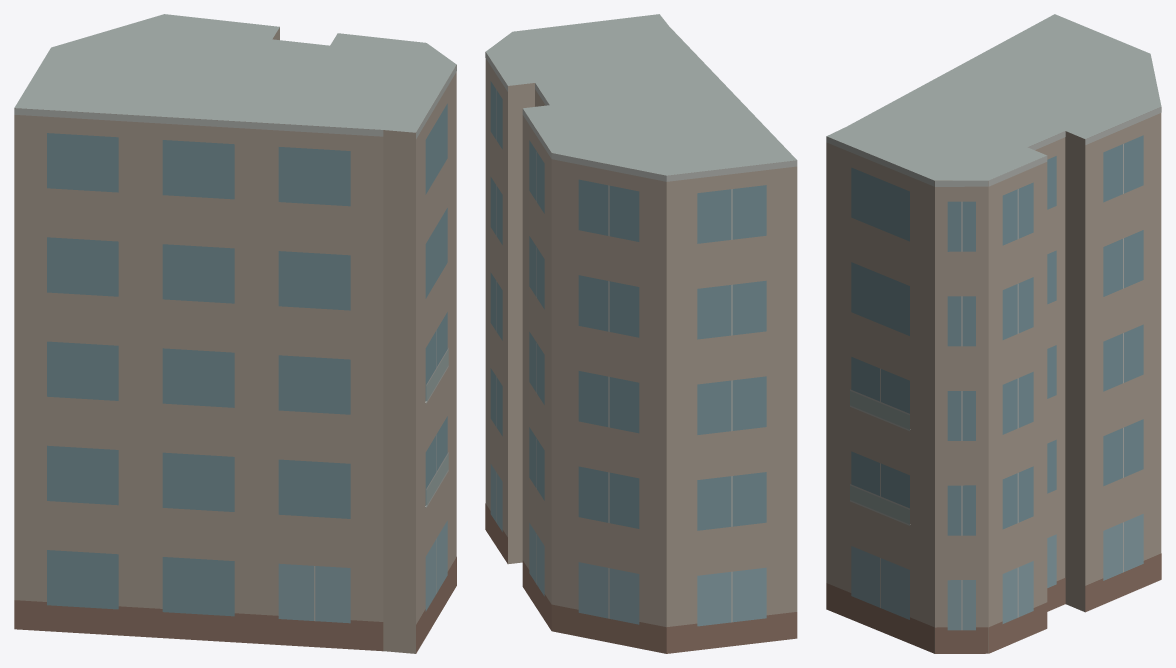
File: survey-upis-32714896.glb
3 views of the same model, side by side, from view 1: azimuth 30°, elevation 25°; view 2: azimuth 150°, elevation 25°; view 3: azimuth 270°, elevation 25° (orthographic). The views are drawn at different scales.
Visible parts, largest first — view 1: survey-upis-32714896.tmp; view 2: survey-upis-32714896.tmp; view 3: survey-upis-32714896.tmp.
Part boxes in pixels (x1,y1,x2,y2): survey-upis-32714896.tmp: (14, 14, 456, 653); survey-upis-32714896.tmp: (485, 14, 797, 653); survey-upis-32714896.tmp: (826, 14, 1161, 653).
Bounding box in the file's own units: 14.22 × 18.8 × 12.08.
